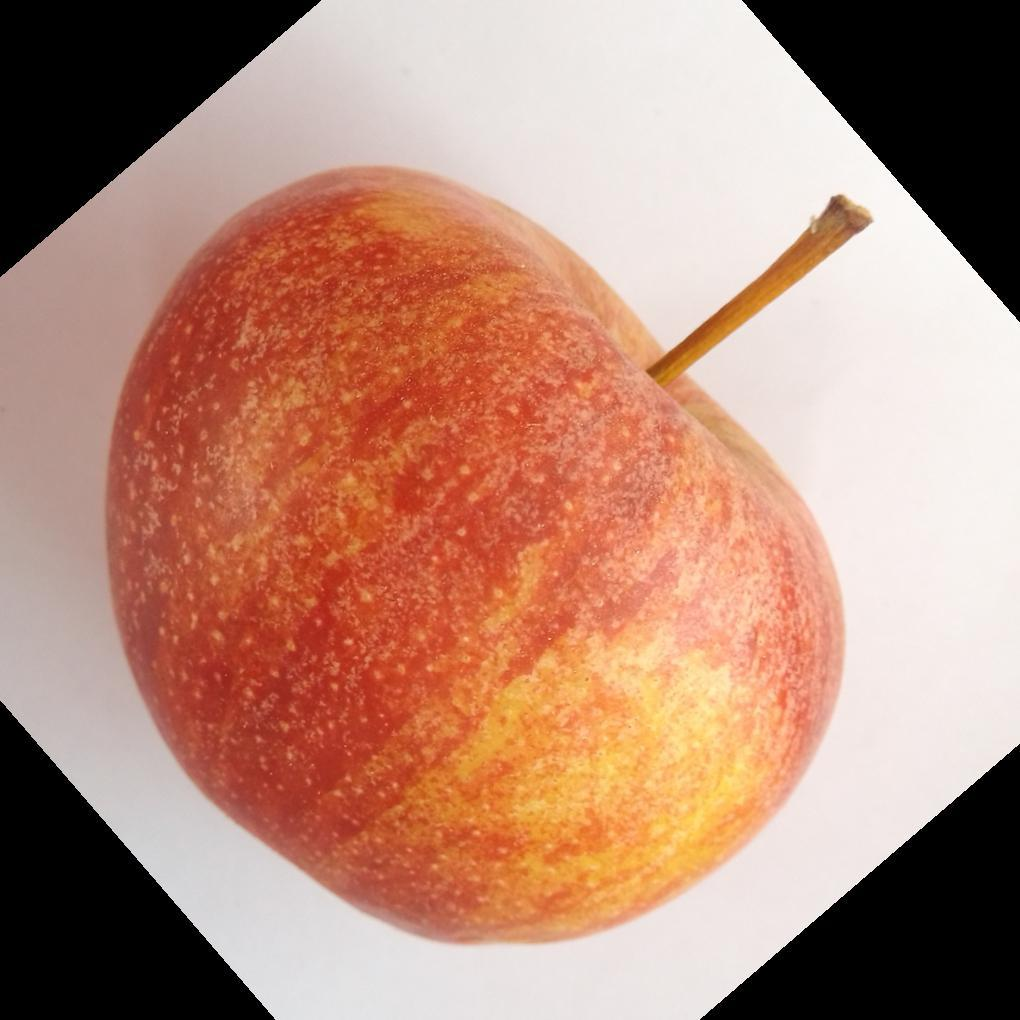FreshGuava: (100, 166, 848, 949)
